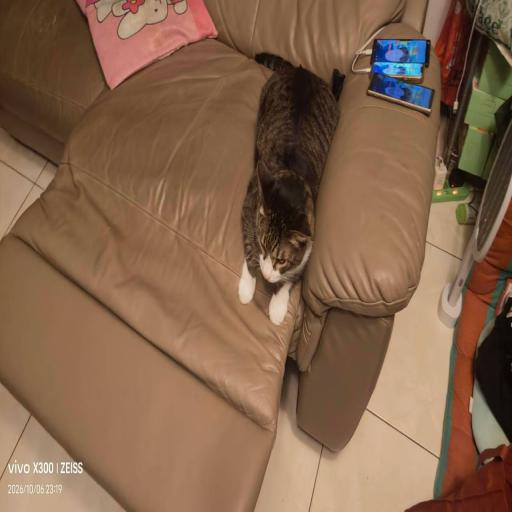cat: (239, 58, 315, 332)
